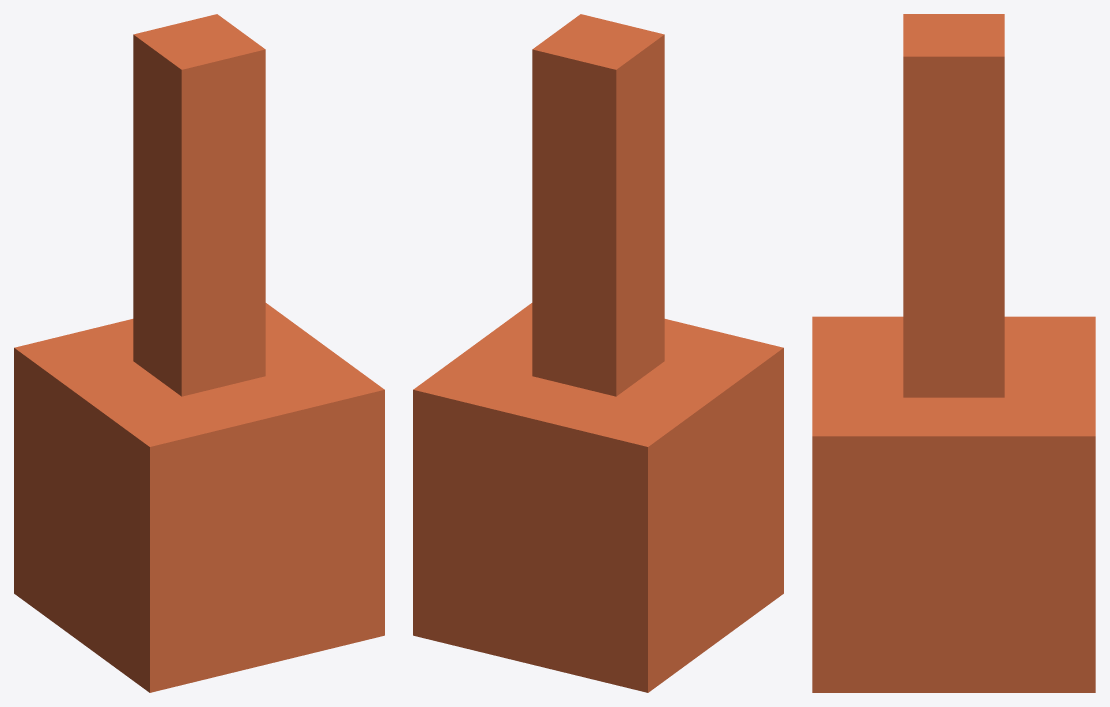
The picture shows the model from 3 angles, left to right: view 1: azimuth 30°, elevation 25°; view 2: azimuth 150°, elevation 25°; view 3: azimuth 270°, elevation 25°; orthographic projection. The views are drawn at different scales.
Visible parts, largest first — view 1: Cube; view 2: Cube; view 3: Cube.
Boxes of the visible parts, x1,y1,x2,y2 form: Cube: [14, 14, 384, 692]; Cube: [413, 14, 783, 692]; Cube: [812, 14, 1095, 692].
Size of the model in its own units: 0.2 by 0.4658 by 0.2.
